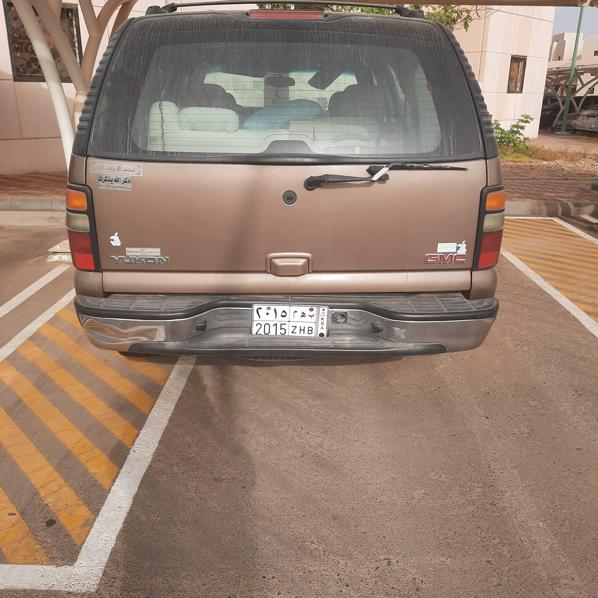numberplate: (253, 304, 328, 339)
